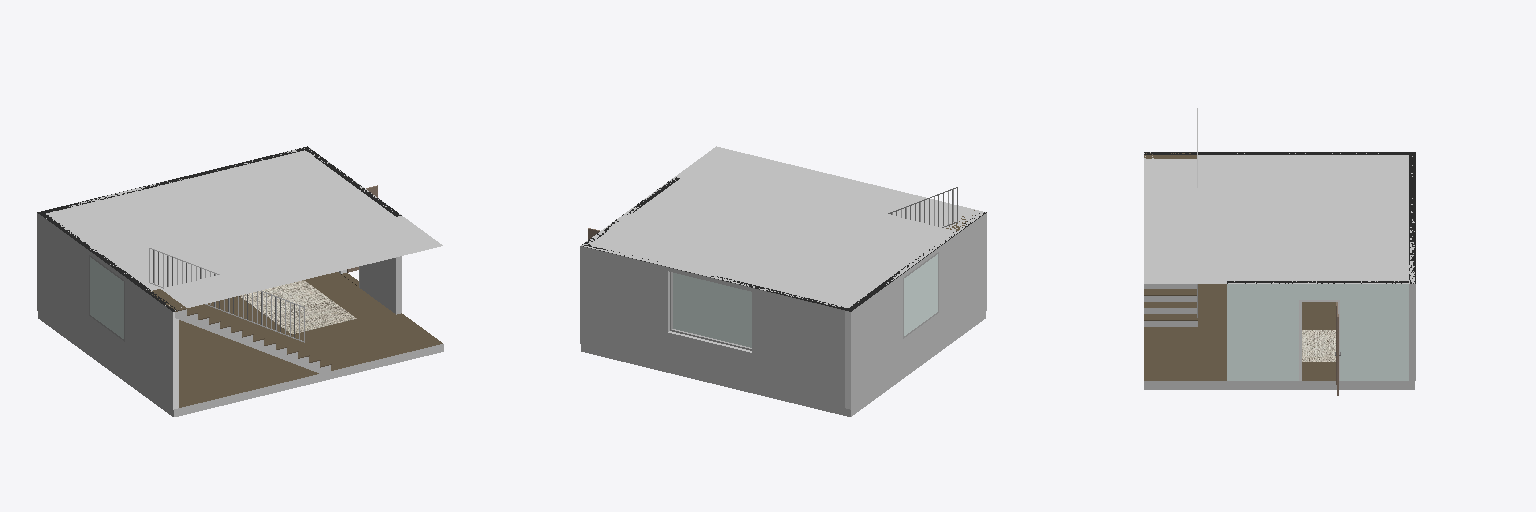
3 views of the same model, side by side, from view 1: azimuth 30°, elevation 25°; view 2: azimuth 150°, elevation 25°; view 3: azimuth 270°, elevation 25° (orthographic).
Parts seen in each view (by area): view 1: 2, 1, 13, 6, 4, 12, 7; view 2: 2, 6, 4, 5, 7; view 3: 2, 8, 1, 4, 13.
Part boxes in pixels (left/top/right/bottom): 2: left=37, top=148, right=443, bottom=416; 1: left=150, top=272, right=442, bottom=407; 13: left=239, top=280, right=356, bottom=334; 6: left=90, top=257, right=123, bottom=338; 4: left=37, top=146, right=401, bottom=311; 12: left=149, top=248, right=304, bottom=342; 7: left=173, top=312, right=178, bottom=409; 2: left=580, top=146, right=986, bottom=416; 6: left=673, top=254, right=937, bottom=347; 4: left=582, top=177, right=986, bottom=311; 5: left=670, top=252, right=938, bottom=350; 7: left=845, top=311, right=850, bottom=409; 2: left=1144, top=152, right=1415, bottom=389; 8: left=1227, top=284, right=1408, bottom=380; 1: left=1144, top=153, right=1335, bottom=380; 4: left=1144, top=152, right=1415, bottom=283; 13: left=1302, top=330, right=1335, bottom=361.
Bounding box in the file's own units: 7.76 × 3.69 × 6.05.
Materials: 13 (2 with a texture image).